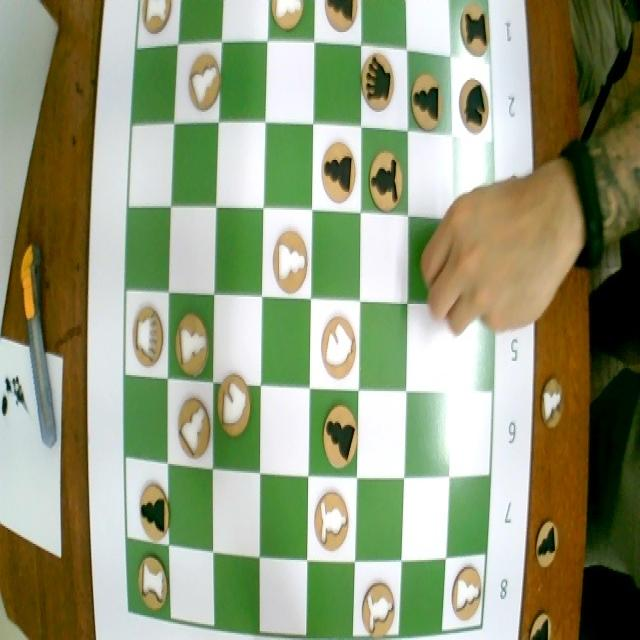chess-pieces: (306, 482, 354, 558), (314, 394, 358, 472), (313, 132, 357, 207), (126, 297, 168, 375), (213, 364, 255, 439), (362, 44, 404, 118), (408, 65, 451, 136), (178, 49, 222, 117), (317, 310, 358, 382), (170, 309, 212, 378), (173, 388, 210, 460), (365, 148, 405, 214), (134, 472, 170, 544), (272, 225, 308, 296), (454, 2, 492, 62), (132, 550, 168, 613), (456, 72, 492, 134), (361, 579, 396, 638), (451, 562, 484, 623), (136, 0, 177, 46), (269, 0, 310, 37), (321, 0, 359, 37)
